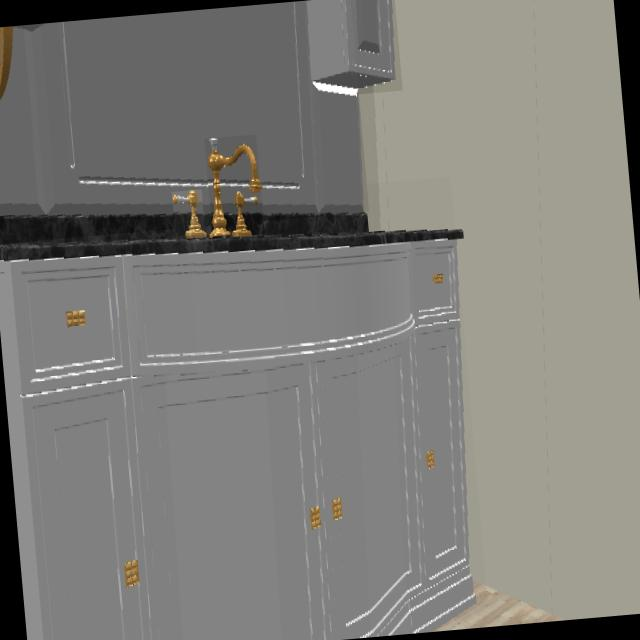cabinet: (0, 208, 475, 640), (0, 0, 364, 215), (304, 0, 398, 94)
sink: (207, 138, 261, 235), (173, 192, 204, 236)
